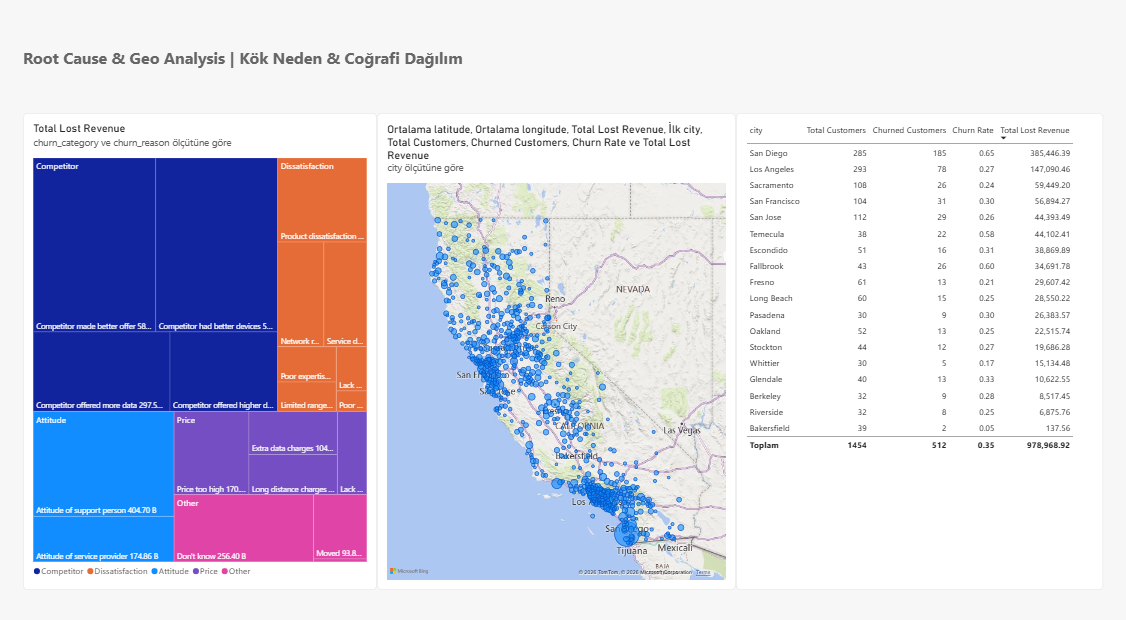

Layout of this report page (visuals, bound fields, positions):
{"tool":"powerbi","page":{"name":"Root Cause & Geo Analysis","canvas":[1920,1080],"ordinal":2},"visuals":[{"type":"textbox","box":[76.7,105,843.3,53.3],"z":0},{"type":"treemap","fields":{"Details":["public vw_powerbi_telecom_model.churn_reason"],"Group":["public vw_powerbi_telecom_model.churn_category"],"Values":["_Measures.Total Lost Revenue"]},"box":[76.7,215,590,795],"z":1},{"type":"map","fields":{"Category":["public vw_powerbi_telecom_model.city"],"Size":["_Measures.Total Lost Revenue"],"X":["Avg(public vw_powerbi_telecom_model.longitude)"],"Y":["Avg(public vw_powerbi_telecom_model.latitude)"]},"box":[666.7,215,598.3,795],"z":2},{"type":"tableEx","fields":{"Values":["public vw_powerbi_telecom_model.city","_Measures.Total Customers","_Measures.Churned Customers","_Measures.Churn Rate","_Measures.Total Lost Revenue"]},"box":[1265,215,611.7,795],"z":3}]}

Visuals, with their boxes in screenshot pixels (x1, y1, x2, y2), scaled from the page's 1920x1080 canvas onto the 1126x620 screenshot:
textbox: x1=45, y1=60, x2=540, y2=91
treemap - public vw_powerbi_telecom_model.churn_reason x public vw_powerbi_telecom_model.churn_category: x1=45, y1=123, x2=391, y2=580
map - public vw_powerbi_telecom_model.city x _Measures.Total Lost Revenue: x1=391, y1=123, x2=742, y2=580
tableEx - public vw_powerbi_telecom_model.city x _Measures.Total Customers: x1=742, y1=123, x2=1101, y2=580
